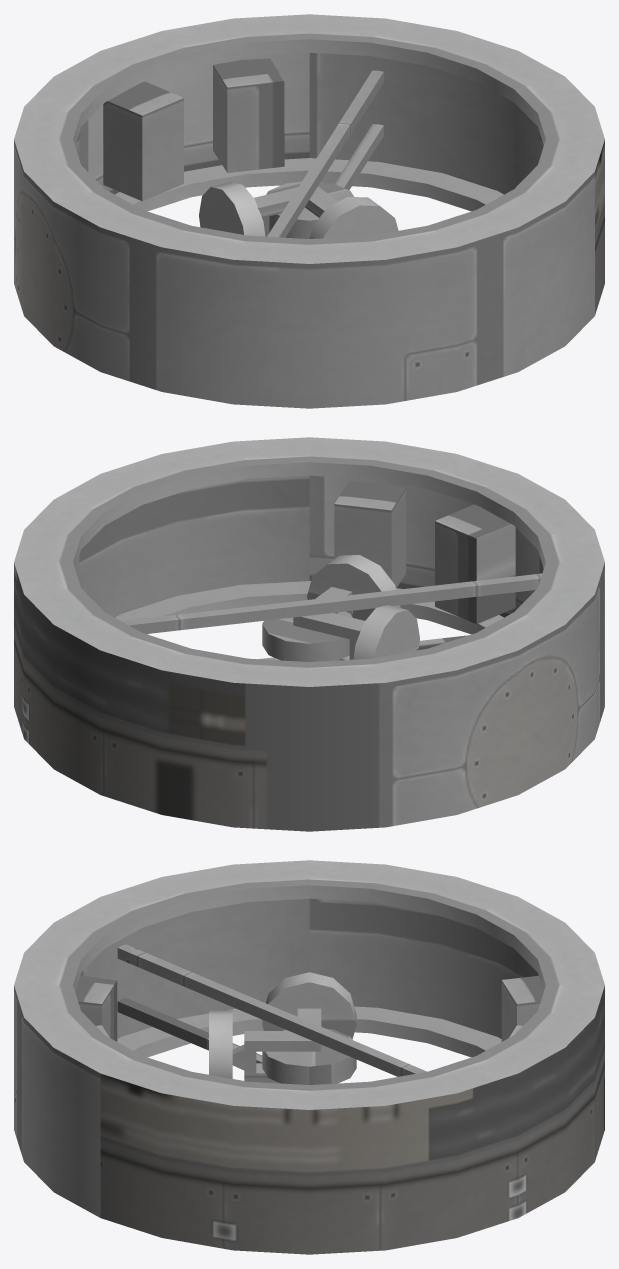
Rendered from Hamal_Avionics_1.obj.
The picture shows the model from 3 angles, top to bottom: view 1: azimuth 30°, elevation 25°; view 2: azimuth 150°, elevation 25°; view 3: azimuth 270°, elevation 25°; orthographic projection.
Visible parts, largest first — view 1: Hamal_Avionics_1; view 2: Hamal_Avionics_1; view 3: Hamal_Avionics_1.
Boxes of the visible parts, bbox=[...] form: Hamal_Avionics_1: bbox=[14, 14, 604, 408]; Hamal_Avionics_1: bbox=[14, 437, 604, 831]; Hamal_Avionics_1: bbox=[14, 860, 604, 1254].
Bounding box in the file's own units: 1.25 × 0.3375 × 1.25.
